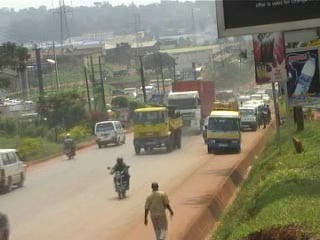Car: (0, 205, 14, 240)
Motorcycle: (107, 157, 131, 200), (61, 133, 76, 161)
